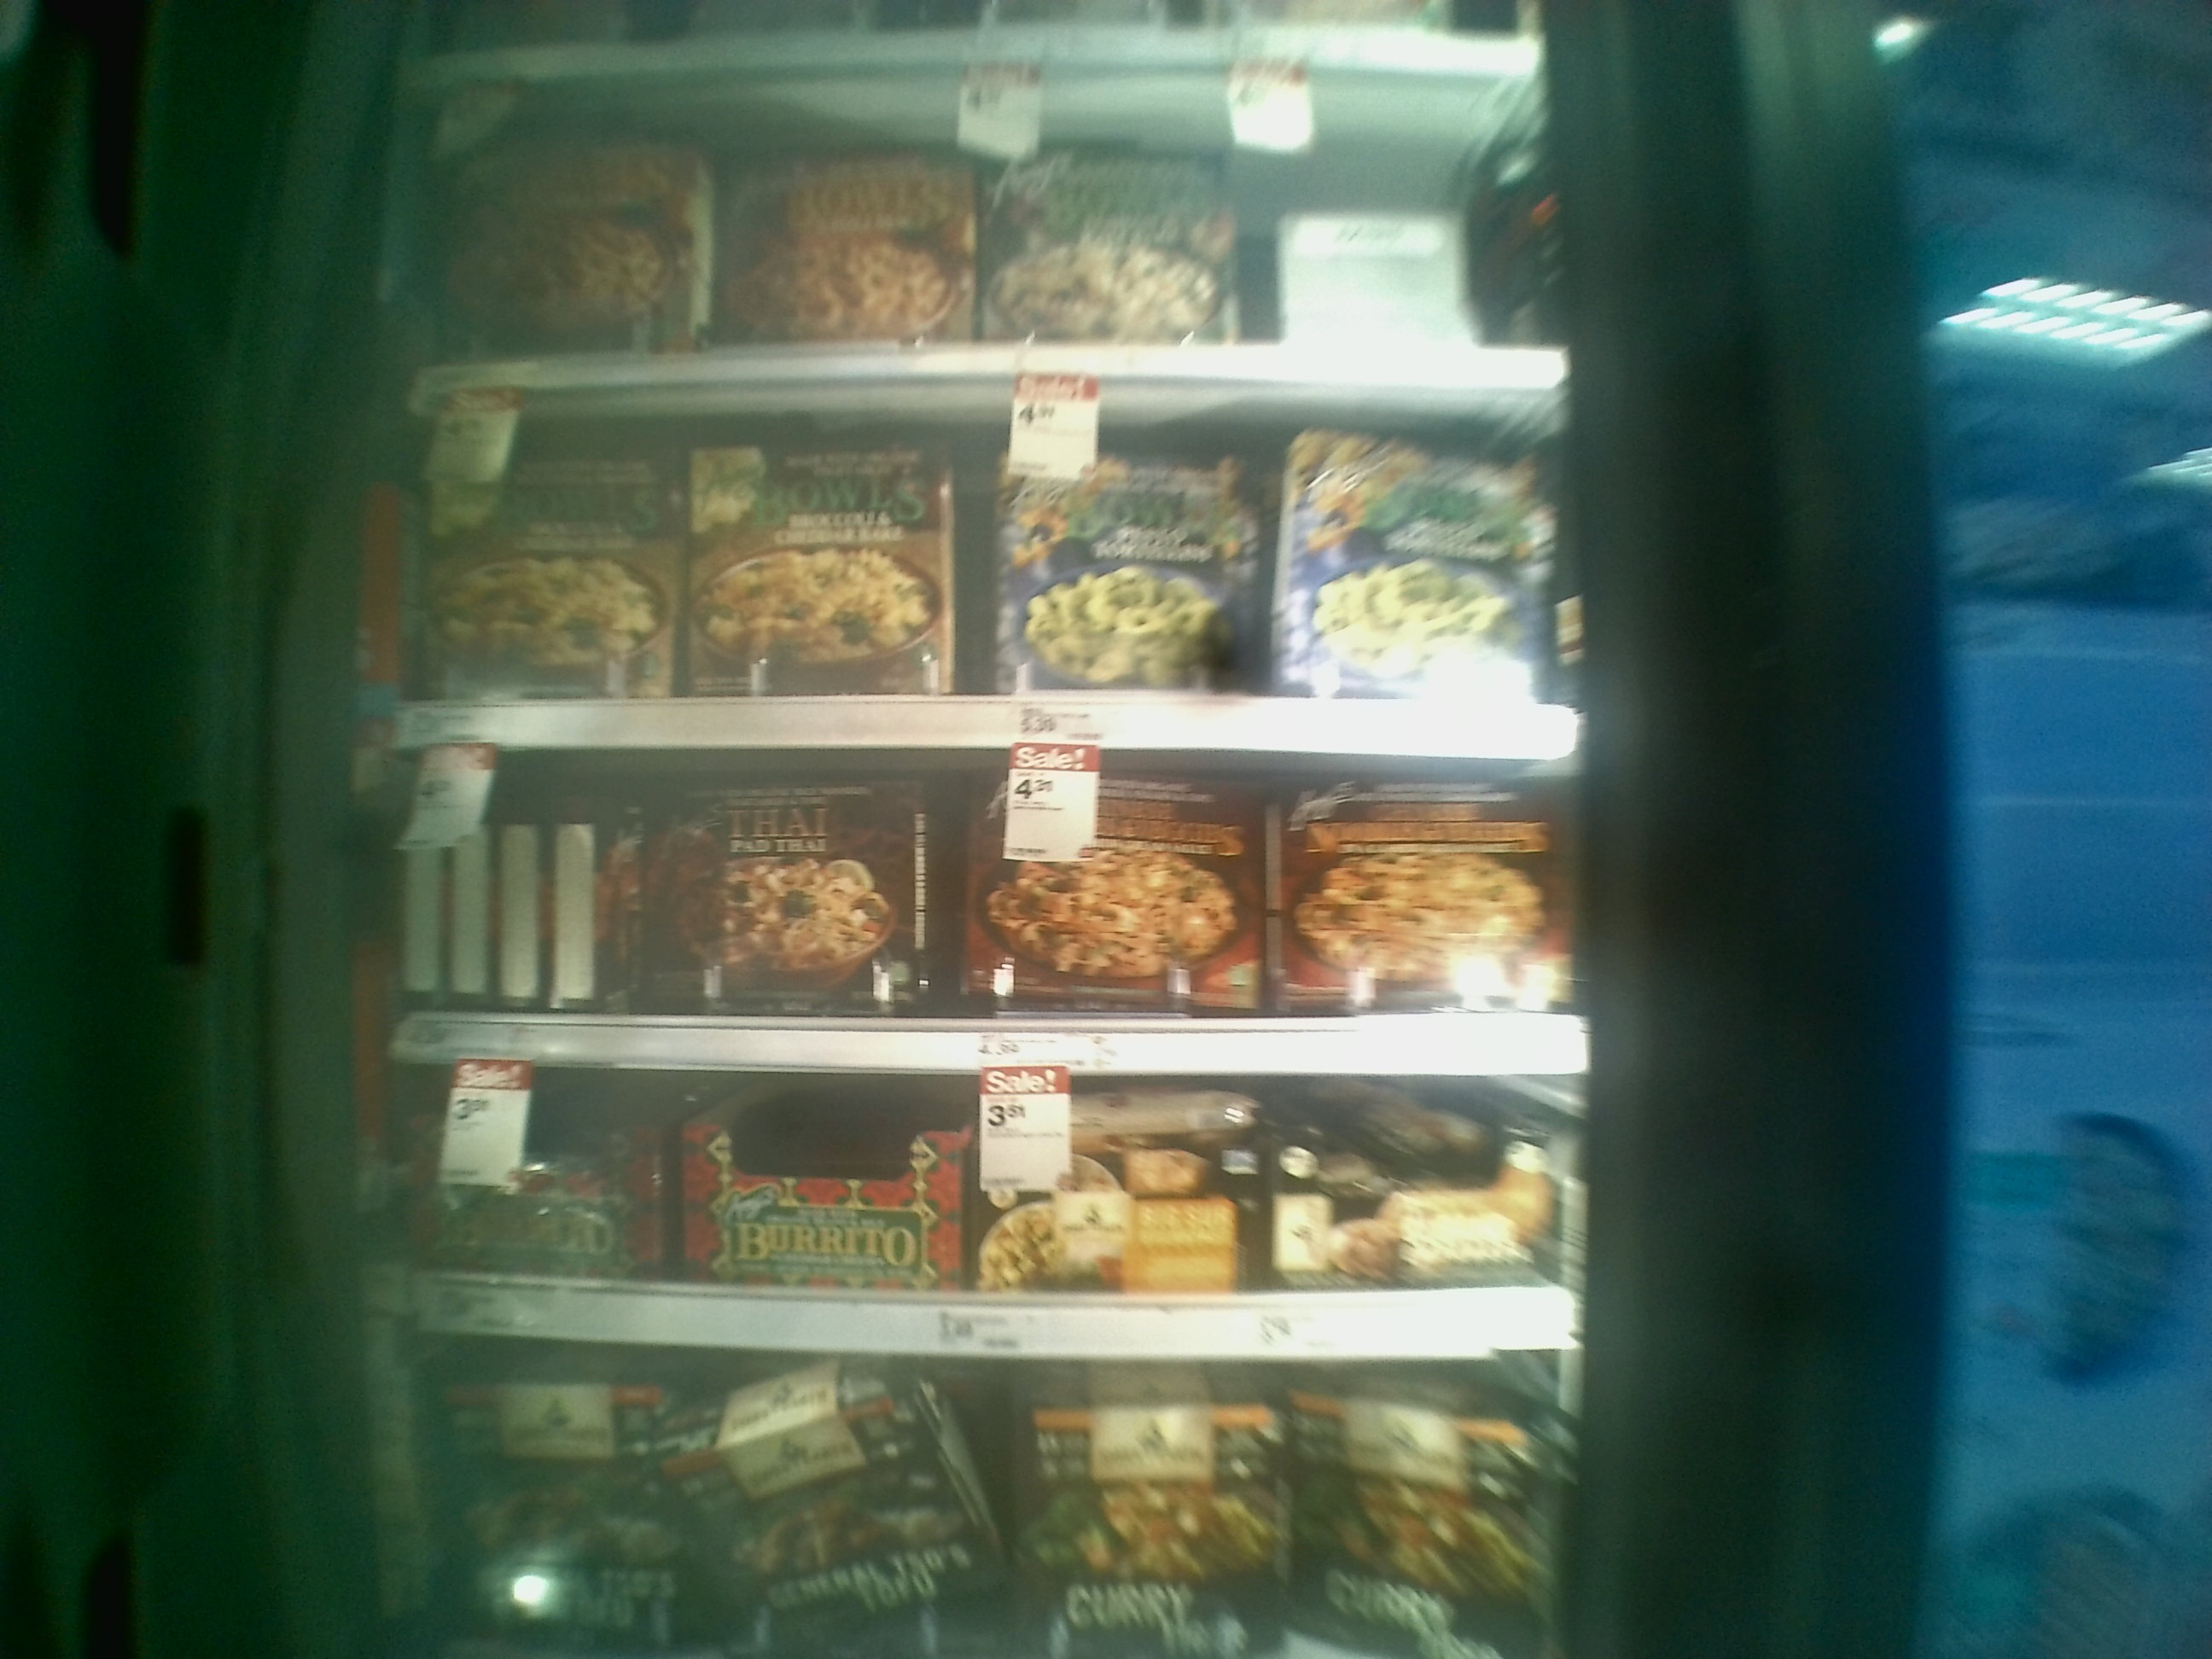frozen-food-shelf: (394, 390, 1583, 758), (387, 763, 1604, 1093), (395, 89, 1571, 390), (383, 1098, 1599, 1356)
